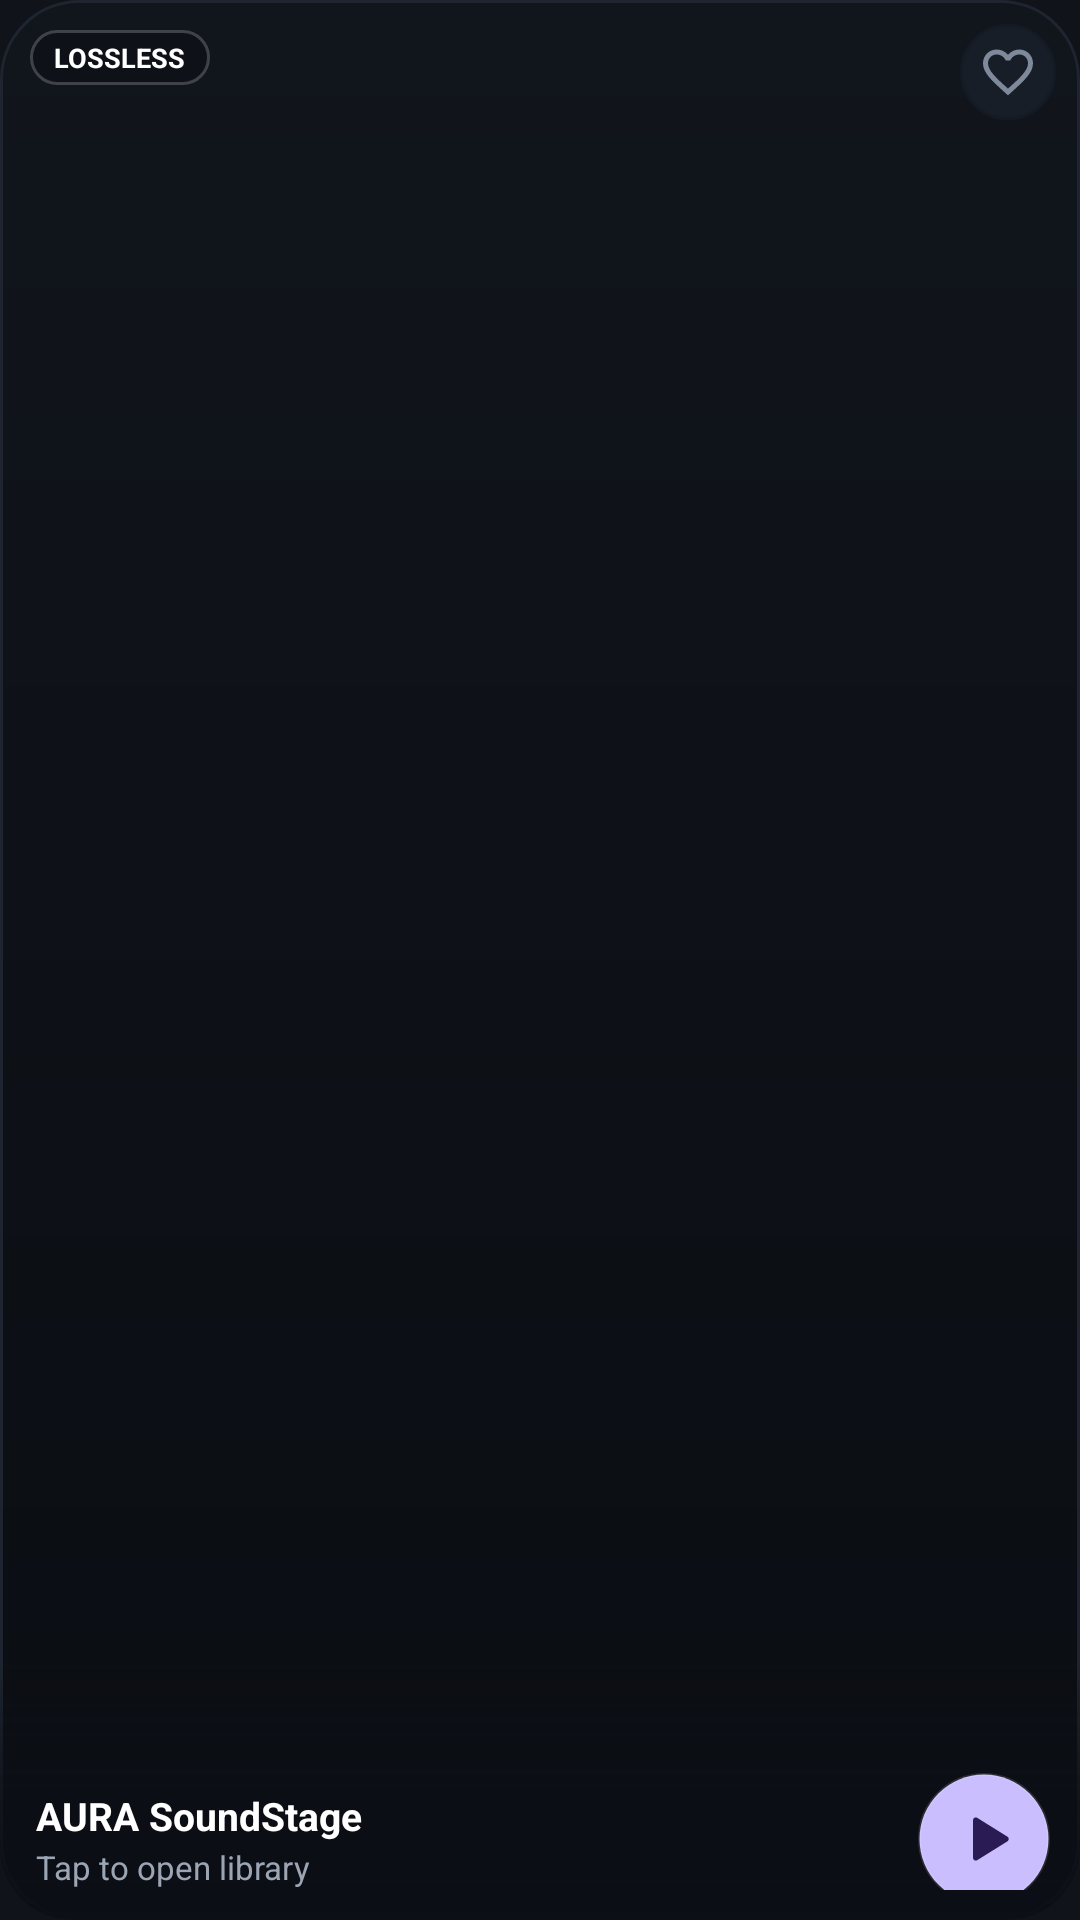

Named icons in this screenshot (1080px x 1920px) and their centers, (x=x, y=y):
Play or Pause: (x=984, y=1831)
widget heart: (x=1008, y=72)
